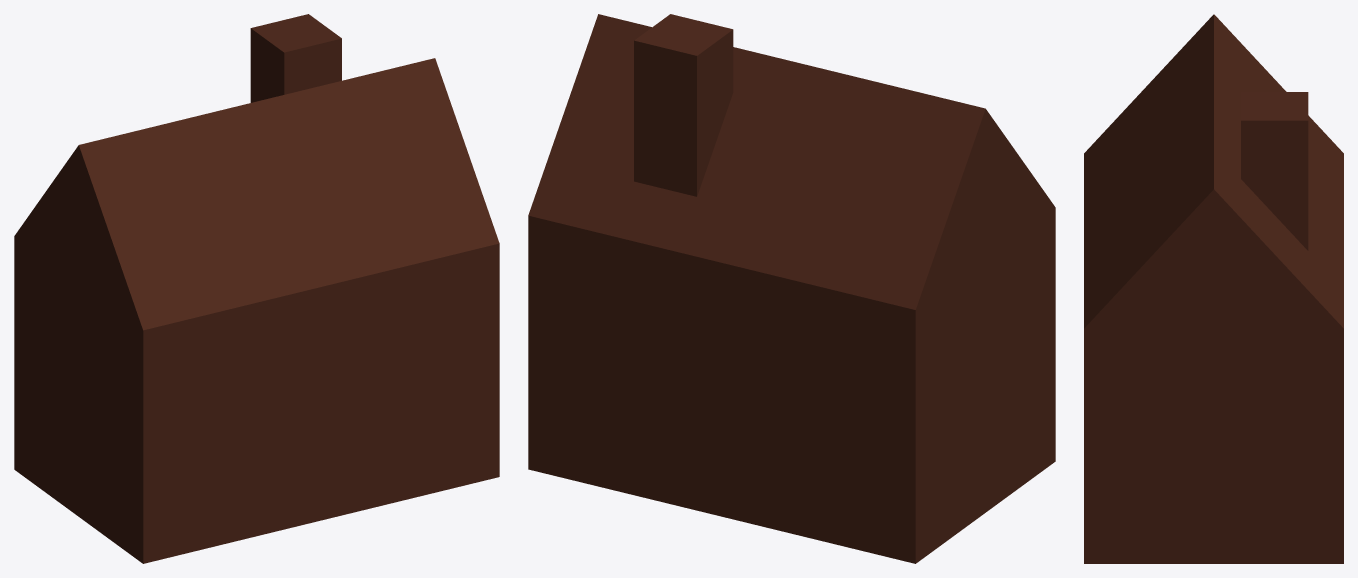
The model's file is Worker_House_1_PlaceHolder.fbx.
3 renders of one model, left to right at view 1: azimuth 30°, elevation 25°; view 2: azimuth 150°, elevation 25°; view 3: azimuth 270°, elevation 25°, orthographic. The views are drawn at different scales.
Parts seen in each view (by area): view 1: Cube, Cube.001; view 2: Cube, Cube.001; view 3: Cube, Cube.001.
Part boxes in pixels (left/top/right/bottom): Cube: left=14, top=58, right=499, bottom=563; Cube.001: left=250, top=14, right=341, bottom=102; Cube: left=528, top=14, right=1055, bottom=563; Cube.001: left=634, top=14, right=733, bottom=196; Cube: left=1084, top=14, right=1343, bottom=563; Cube.001: left=1241, top=92, right=1308, bottom=250.
Size of what is drawn, in the model's own units: 34.55 by 37.15 by 21.63.
